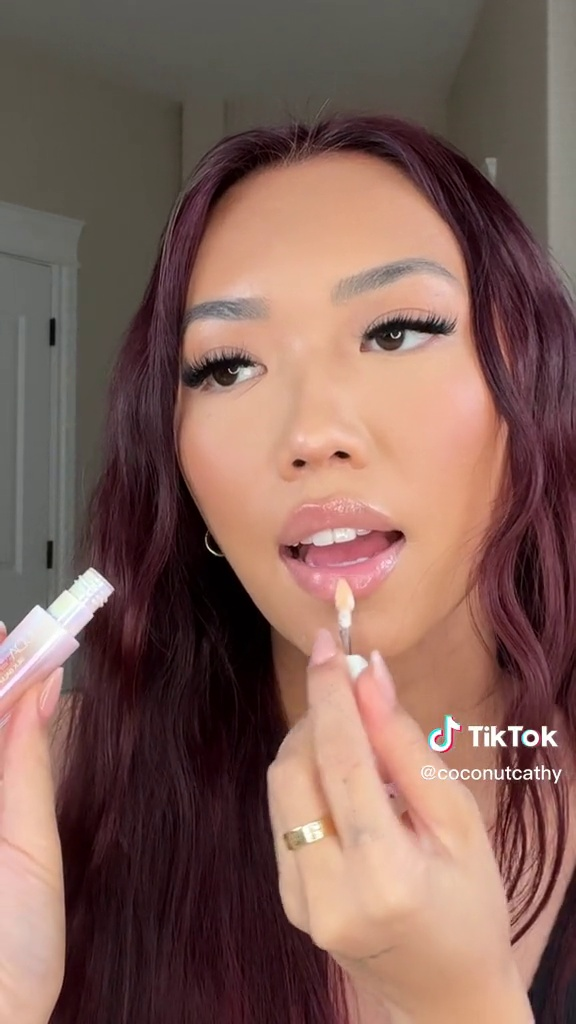train' :'yolo_data/train/images',: (1, 555, 127, 732), (306, 565, 383, 754)
